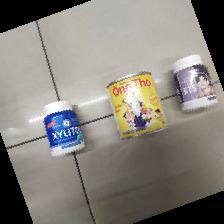Ong_tho: (106, 71, 167, 142)
Xylitol_BTS: (170, 52, 220, 116)
Xylitol_blue: (42, 100, 87, 158)
